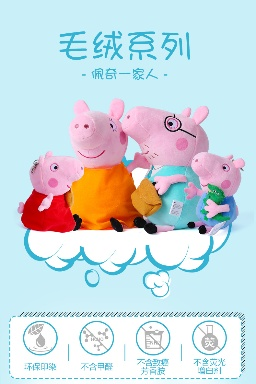Peppa: (19, 152, 84, 233)
